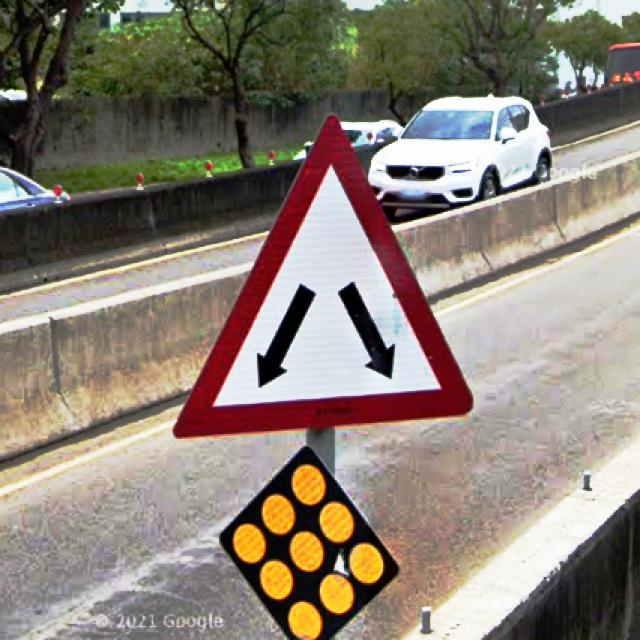diverge: (172, 111, 474, 439)
